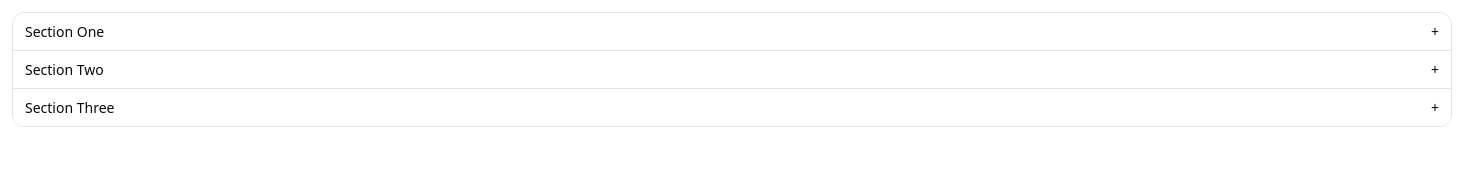
Scenario: Accordion › happy path › switches panels when clicking different headers
Click the button "Section One +" at {"x": 65, "y": 32}, box [13,13,1451,50]
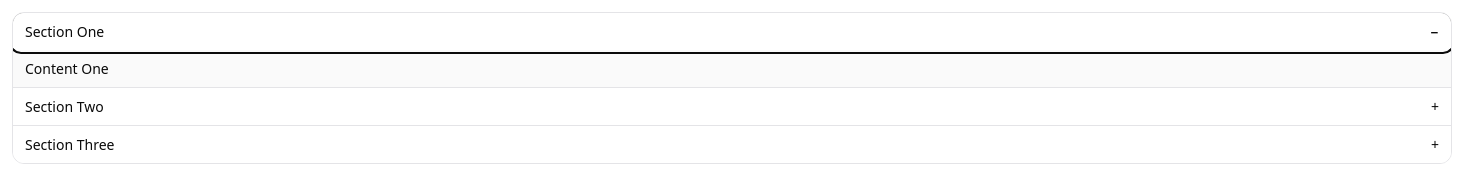
Expected: the text "Content Two" is not shown
Result: the text "Content One" is shown at [13,50,1451,87]
Click the button "Section Two +" at {"x": 64, "y": 106}, box [13,88,1451,125]
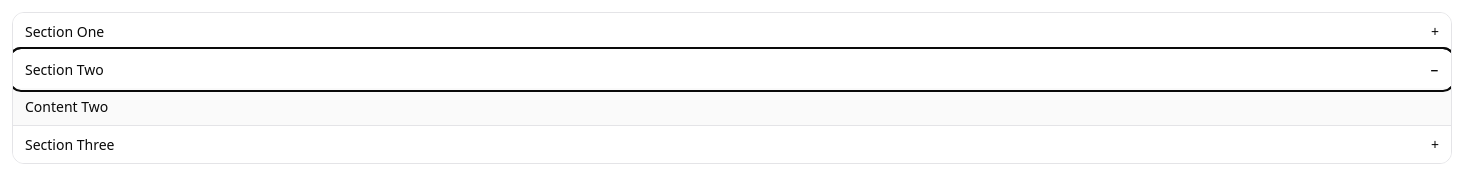
Result: the text "Content One" is gone
Result: the text "Content Two" is shown at [13,88,1451,125]
